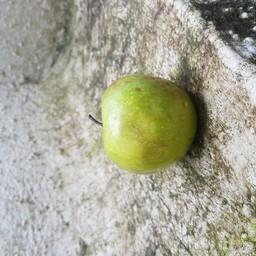Bad_apple: (98, 72, 199, 173)
